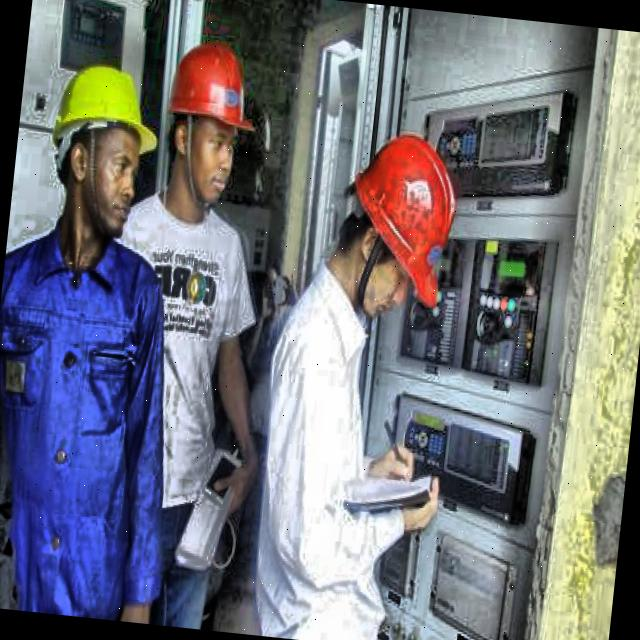helmet: (324, 106, 469, 334), (34, 44, 160, 248), (151, 21, 269, 221)
